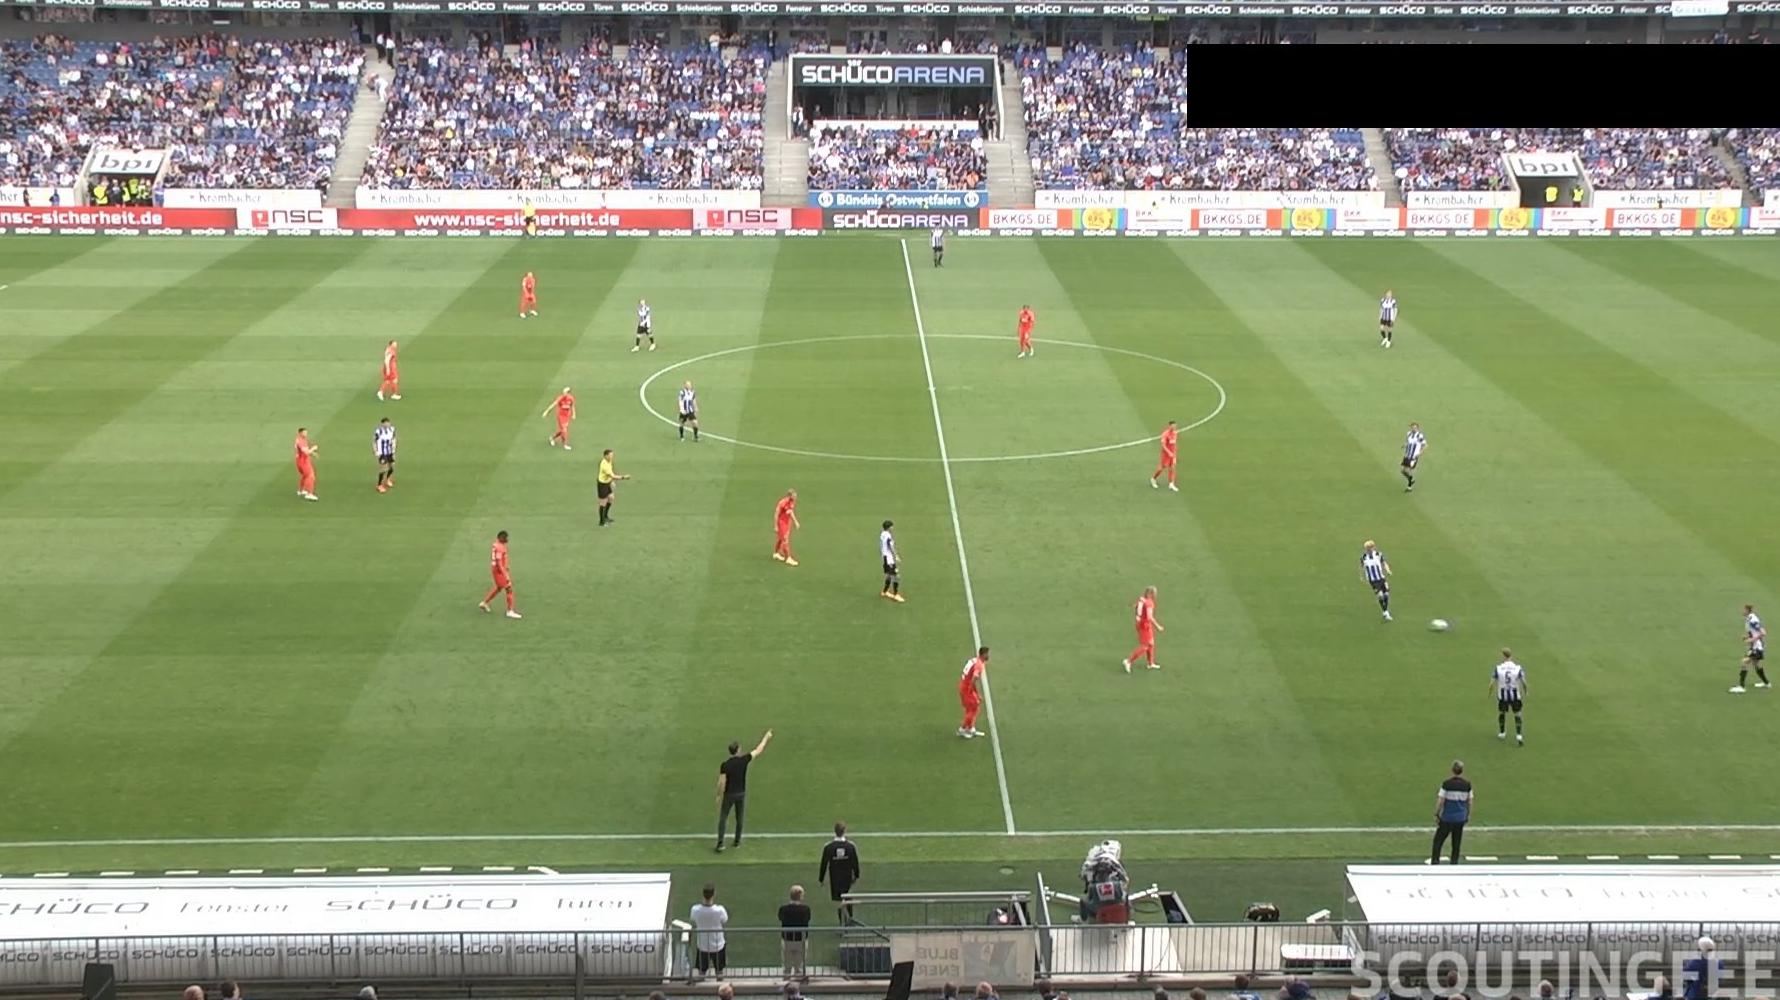ball: (1428, 616, 1450, 633)
